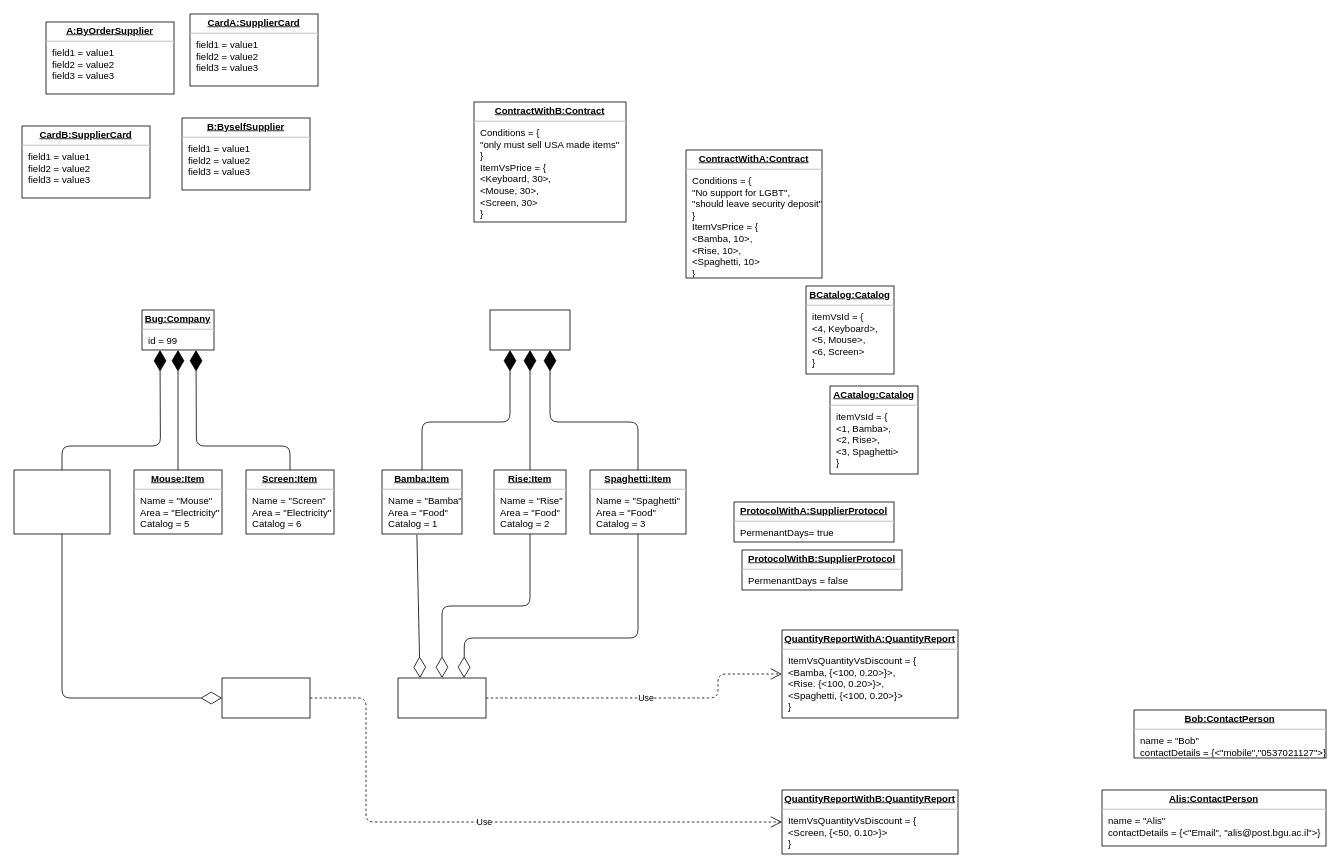
This 1340x868 diagram has some shape labels left out. The centre of each missing label's shape, as x and y in pixels:
Keyboard:Item Name = "Keyboard" Area = "Electricity" Catalog = 4: pixel 61 501
orderFromA:Order Date = 27/03/2021: pixel 441 697
orderFromB:Order Date = 27/03/2021: pixel 265 697
Osem:Company id = 77: pixel 529 329
